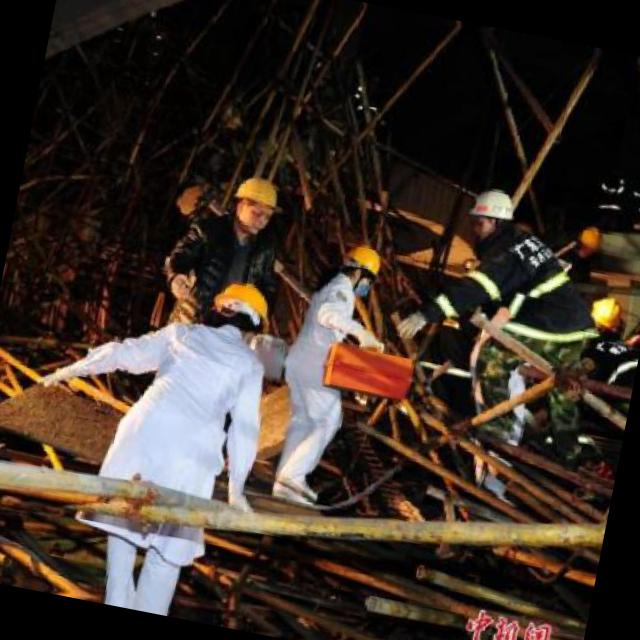helmet: (206, 277, 276, 344), (462, 183, 520, 244), (227, 172, 279, 238), (333, 235, 387, 295), (583, 288, 625, 334), (569, 224, 603, 258)
